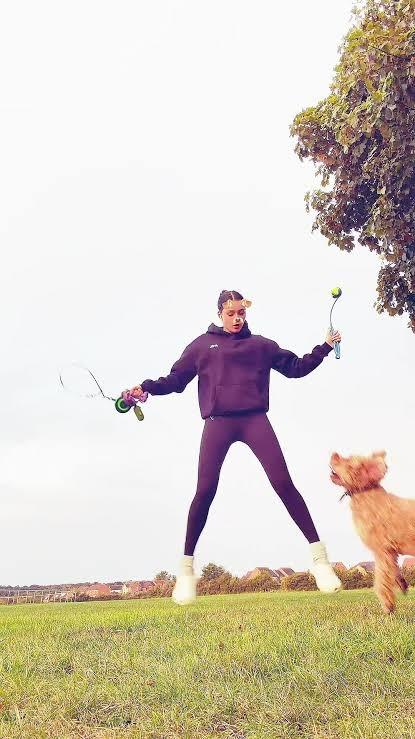adult_dog: (327, 447, 415, 617)
non-dog: (117, 289, 344, 607)
